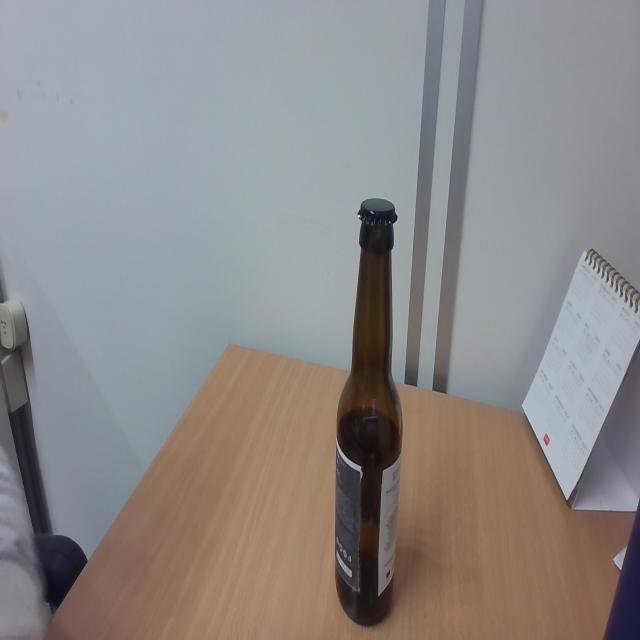Bottle: (333, 197, 401, 628)
Cap: (356, 197, 400, 235)
Label: (336, 451, 400, 594)
